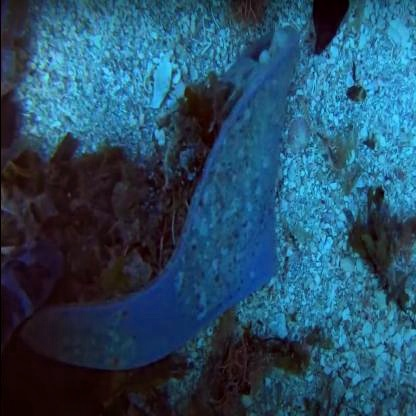misc: (186, 46, 278, 305)
